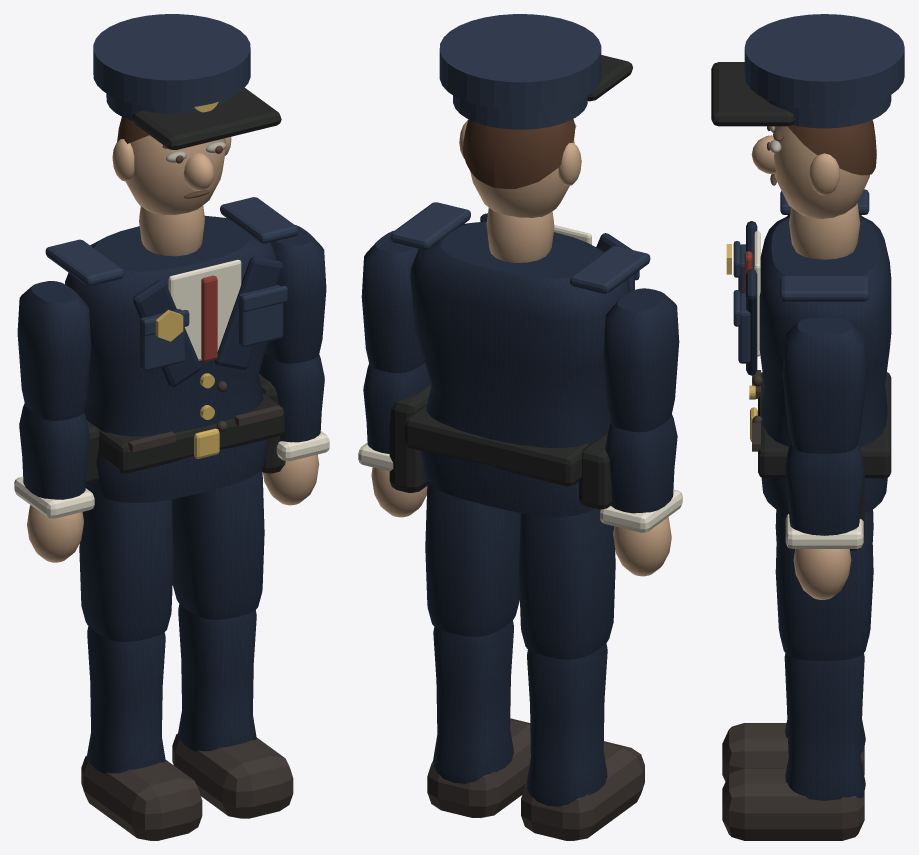
The model's file is police-officer.glb.
3 views of the same model, side by side, from view 1: azimuth 30°, elevation 25°; view 2: azimuth 150°, elevation 25°; view 3: azimuth 270°, elevation 25° (orthographic). The views are drawn at different scales.
Visible parts, largest first — view 1: jacket, uniform cap band, trouser upper, trouser upper.001, polished cap visor, trouser lower.001, trouser lower, jacket upper sleeve, neck, shoe, shoe.001, jacket upper sleeve.001 (+10 smaller); view 2: jacket, uniform cap band, trouser upper, trouser upper.001, polished cap visor, trouser lower.001, trouser lower, jacket upper sleeve, jacket upper sleeve.001, neck, barbered full, shoe (+7 smaller); view 3: uniform cap band, jacket, trouser lower.001, jacket upper sleeve.001, trouser upper.001, neck, shoe.001, polished cap visor, jacket forearm.001, shoe, barbered full, hand.001 (+4 smaller).
Boxes of the visible parts, x1=… form: jacket: x1=65, y1=215, x2=282, y2=502; uniform cap band: x1=45, y1=14, x2=298, y2=371; trouser upper: x1=79, y1=485, x2=173, y2=641; trouser upper.001: x1=172, y1=470, x2=264, y2=619; polished cap visor: x1=86, y1=87, x2=285, y2=485; trouser lower.001: x1=178, y1=604, x2=256, y2=751; trouser lower: x1=87, y1=626, x2=165, y2=773; jacket upper sleeve: x1=17, y1=281, x2=91, y2=420; neck: x1=112, y1=135, x2=231, y2=256; shoe: x1=81, y1=755, x2=202, y2=840; shoe.001: x1=172, y1=733, x2=293, y2=818; jacket upper sleeve.001: x1=265, y1=225, x2=326, y2=363; jacket: x1=410, y1=213, x2=632, y2=516; uniform cap band: x1=390, y1=14, x2=650, y2=293; trouser upper: x1=519, y1=508, x2=615, y2=659; trouser upper.001: x1=425, y1=482, x2=520, y2=636; polished cap visor: x1=389, y1=55, x2=632, y2=509; trouser lower.001: x1=433, y1=620, x2=513, y2=783; trouser lower: x1=526, y1=643, x2=607, y2=806; jacket upper sleeve: x1=603, y1=288, x2=679, y2=432; jacket upper sleeve.001: x1=361, y1=231, x2=424, y2=373; neck: x1=459, y1=120, x2=581, y2=262; barbered full: x1=463, y1=119, x2=575, y2=188; shoe: x1=521, y1=741, x2=644, y2=840; uniform cap band: x1=733, y1=14, x2=904, y2=363; jacket: x1=746, y1=215, x2=891, y2=513; trouser lower.001: x1=784, y1=653, x2=865, y2=800; jacket upper sleeve.001: x1=782, y1=317, x2=866, y2=453; trouser upper.001: x1=775, y1=510, x2=873, y2=660; neck: x1=751, y1=126, x2=869, y2=259; shoe.001: x1=722, y1=768, x2=864, y2=840; polished cap visor: x1=711, y1=62, x2=891, y2=550; jacket forearm.001: x1=784, y1=441, x2=864, y2=535; shoe: x1=722, y1=723, x2=864, y2=781; barbered full: x1=788, y1=120, x2=876, y2=175; hand.001: x1=793, y1=549, x2=851, y2=599.
Size of the model in its own units: 0.76 by 1.89 by 0.435.
11 materials, 1 textured.
